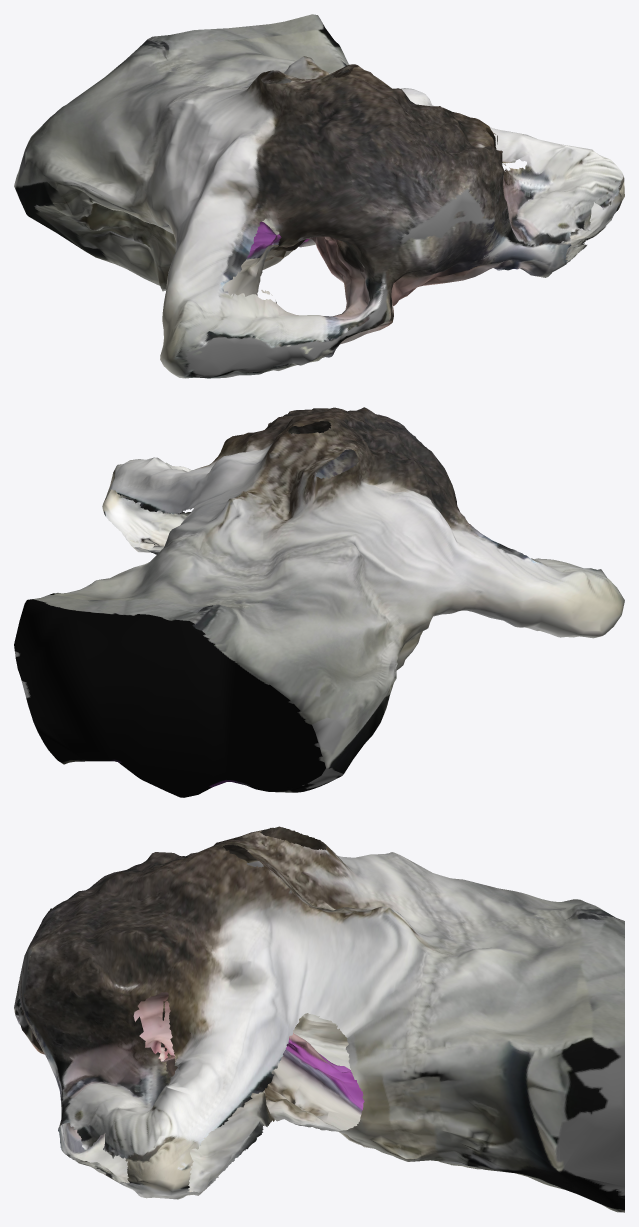
The model's file is Kristin.obj.
3 views of the same model, one above another, from view 1: azimuth 30°, elevation 25°; view 2: azimuth 150°, elevation 25°; view 3: azimuth 270°, elevation 25° (orthographic). The views are drawn at different scales.
Size of the model in its own units: 20.84 by 10.65 by 18.78.
